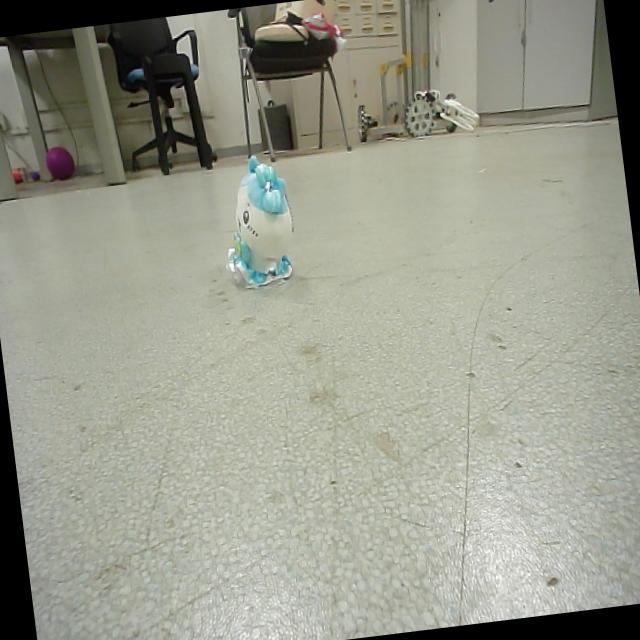xiaoba: (216, 149, 306, 295)
